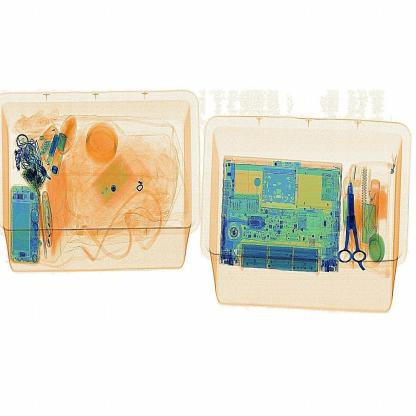gun: (337, 174, 366, 272)
